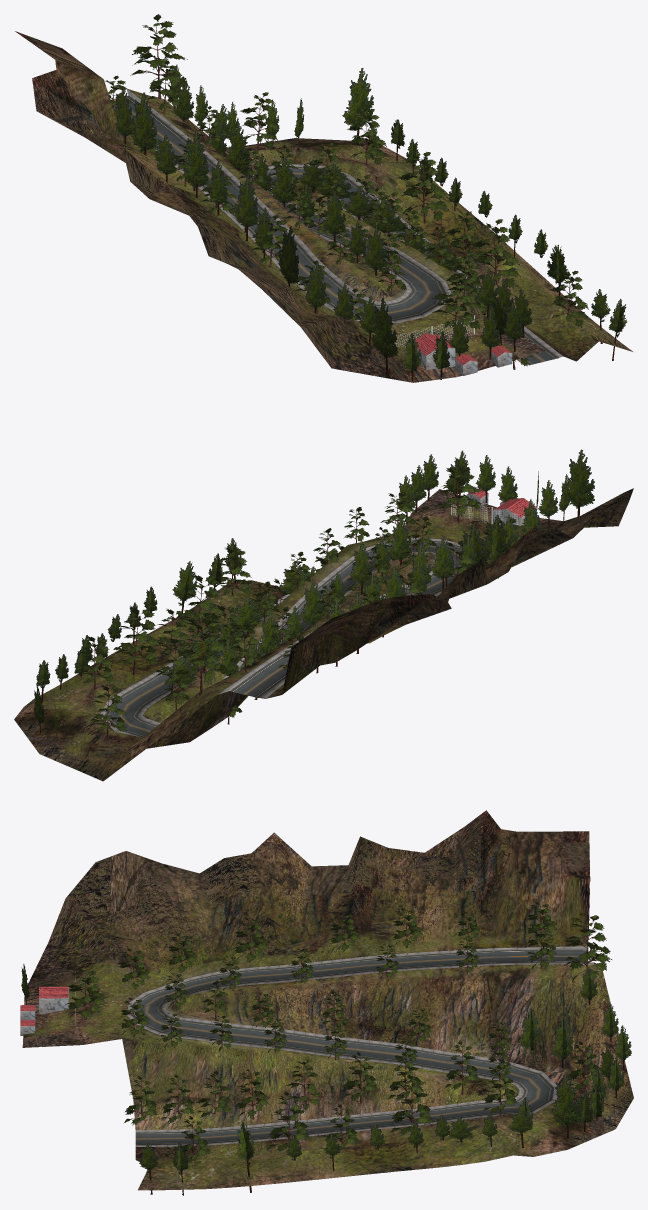
Rendered from road_with_trees.glb.
3 renders of one model, top to bottom at view 1: azimuth 30°, elevation 25°; view 2: azimuth 150°, elevation 25°; view 3: azimuth 270°, elevation 25°, orthographic. The views are drawn at different scales.
Visible parts, largest first — view 1: Object_4, Object_8, Object_15, Object_3, Object_2, Object_17, Object_7, Object_18, Object_6, Object_16; view 2: Object_4, Object_8, Object_15, Object_3, Object_2, Object_17, Object_16, Object_18; view 3: Object_4, Object_15, Object_3, Object_8, Object_2, Object_17, Object_16, Object_18, Object_7, Object_6.
Boxes of the visible parts, x1=… form: Object_4: x1=15, y1=31, x2=632, y2=382; Object_8: x1=114, y1=64, x2=627, y2=381; Object_15: x1=105, y1=14, x2=588, y2=366; Object_3: x1=112, y1=95, x2=558, y2=365; Object_2: x1=126, y1=89, x2=563, y2=365; Object_17: x1=109, y1=84, x2=581, y2=369; Object_7: x1=416, y1=347, x2=512, y2=375; Object_18: x1=146, y1=68, x2=471, y2=325; Object_6: x1=415, y1=333, x2=511, y2=364; Object_16: x1=145, y1=21, x2=472, y2=285; Object_4: x1=14, y1=488, x2=633, y2=781; Object_8: x1=33, y1=449, x2=594, y2=739; Object_15: x1=77, y1=466, x2=522, y2=731; Object_3: x1=105, y1=540, x2=462, y2=736; Object_2: x1=100, y1=538, x2=483, y2=736; Object_17: x1=87, y1=552, x2=409, y2=740; Object_16: x1=161, y1=510, x2=365, y2=710; Object_18: x1=236, y1=470, x2=506, y2=672; Object_4: x1=22, y1=810, x2=633, y2=1190; Object_15: x1=64, y1=902, x2=611, y2=1163; Object_3: x1=131, y1=949, x2=587, y2=1144; Object_8: x1=21, y1=964, x2=631, y2=1195; Object_2: x1=127, y1=946, x2=595, y2=1146; Object_17: x1=133, y1=906, x2=590, y2=1160; Object_16: x1=165, y1=917, x2=602, y2=1119; Object_18: x1=73, y1=912, x2=549, y2=1036; Object_7: x1=20, y1=987, x2=69, y2=1035; Object_6: x1=20, y1=986, x2=68, y2=1025.
Size of the model in its own units: 33.69 by 18.61 by 48.79.
9 materials, 8 textured.
